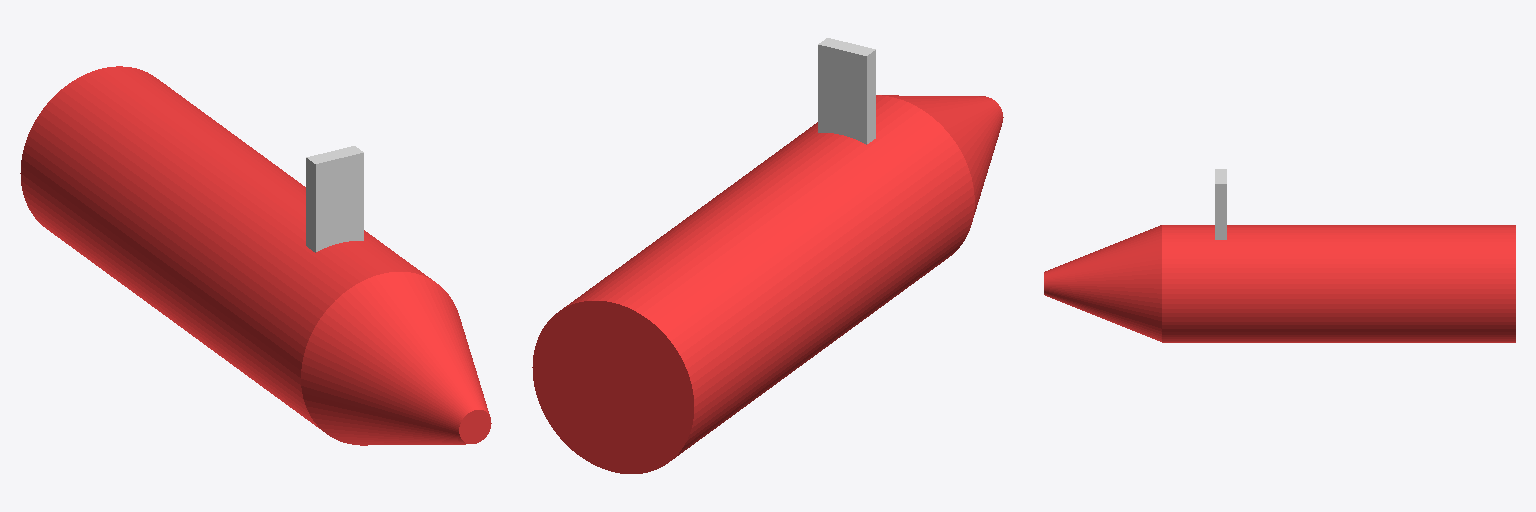
The robot description file, URDF, robot "dispenser_2":
<?xml version="0.0" ?>
<robot name="dispenser_2">
  <link name="base_link">
  <contact>
      <lateral_friction value="1"/>
  </contact>
    <inertial>
      <origin rpy="0 0 0" xyz="0 0 0"/>
       <mass value="0.2"/>
       <inertia ixx="0.001" ixy="0" ixz="0" iyy="0.001" iyz="0" izz="0.001"/>
    </inertial>
    <visual>
      <origin rpy="0 0 0" xyz="0 0 0"/>
      <geometry>
				<mesh filename="dispenser.obj" scale="0.001 0.001 0.001"/>
      </geometry>
       <material name="redish">
        <color rgba="1 0.3 0.3 1"/>
      </material>
    </visual>
    <collision>
      <origin rpy="0 0 0" xyz="0 0 0"/>
      <geometry>
				<mesh filename="dispenser.obj" scale="0.001 0.001 0.001"/>
      </geometry>
    </collision>
  </link>
  <link
    name="knob">
    <inertial>
      <origin xyz="0 0 0" rpy="0 0 0" />
      <mass
        value="0.001" />
      <inertia
        ixx="2.66832029033166E-07"
        ixy="1.66142314639824E-15"
        ixz="1.45945633322873E-07"
        iyy="1.3889233257419E-06"
        iyz="2.82951161241588E-15"
        izz="1.26603336914415E-06" />
    </inertial>
    <visual>
      <origin xyz="0 0 0" rpy="0 0 0" />
      <geometry>
        <mesh filename="../cube_like/cube.obj" scale="0.03 0.01 0.1" />
      </geometry>
      <material name="">
        <color rgba="0.9 0.9 0.9 1" />
      </material>
    </visual>
    <collision>
      <origin xyz="0 0 0" rpy="0 0 0" />
      <geometry>
        <mesh filename="../cube_like/cube.obj" scale="0.03 0.01 0.1" />
      </geometry>
    </collision>
  </link>
  <joint
    name="knob_joint"
    type="revolute">
    <origin xyz="0 0.2 0.05" rpy="0 0 0" />
    <parent link="base_link" />
    <child link="knob" />
    <axis xyz="1 0 0" />
    <limit lower="-1.57" upper="1.57" velocity="2.0" effort="1" />
  </joint>
</robot>

--- Facts derived from the render (not from the file) ---
The picture shows the robot from 3 angles, left to right: view 1: azimuth 30°, elevation 25°; view 2: azimuth 150°, elevation 25°; view 3: azimuth 270°, elevation 25°; orthographic projection.
Model dispenser_2 with 2 links and 1 joints (1 revolute), rooted at base_link, posed every joint at zero.
Visible links, largest first — view 1: base_link, knob; view 2: base_link, knob; view 3: base_link, knob.
Link boxes in pixels (x1,y1,x2,y2): base_link: (20, 66, 491, 445); knob: (306, 146, 363, 252); base_link: (532, 95, 1003, 473); knob: (818, 38, 875, 144); base_link: (1044, 225, 1515, 342); knob: (1215, 169, 1226, 239).
Size in the robot's own frame: 0.1 by 0.4 by 0.15 metres.
2 mesh visuals loaded from 2 distinct referenced files (2 OBJ).
